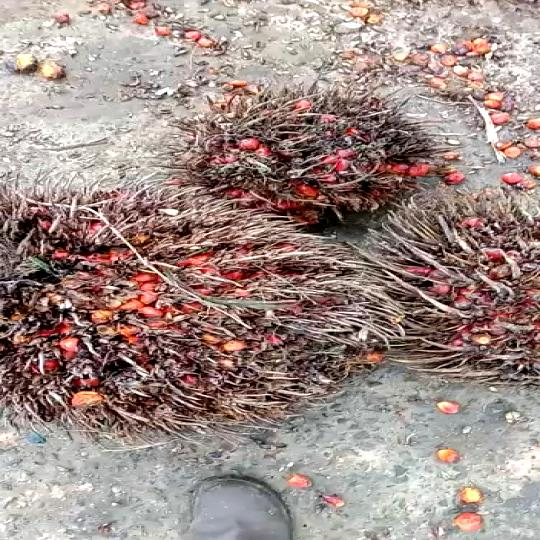terlalu masak: (0, 183, 377, 428), (186, 85, 402, 222)
